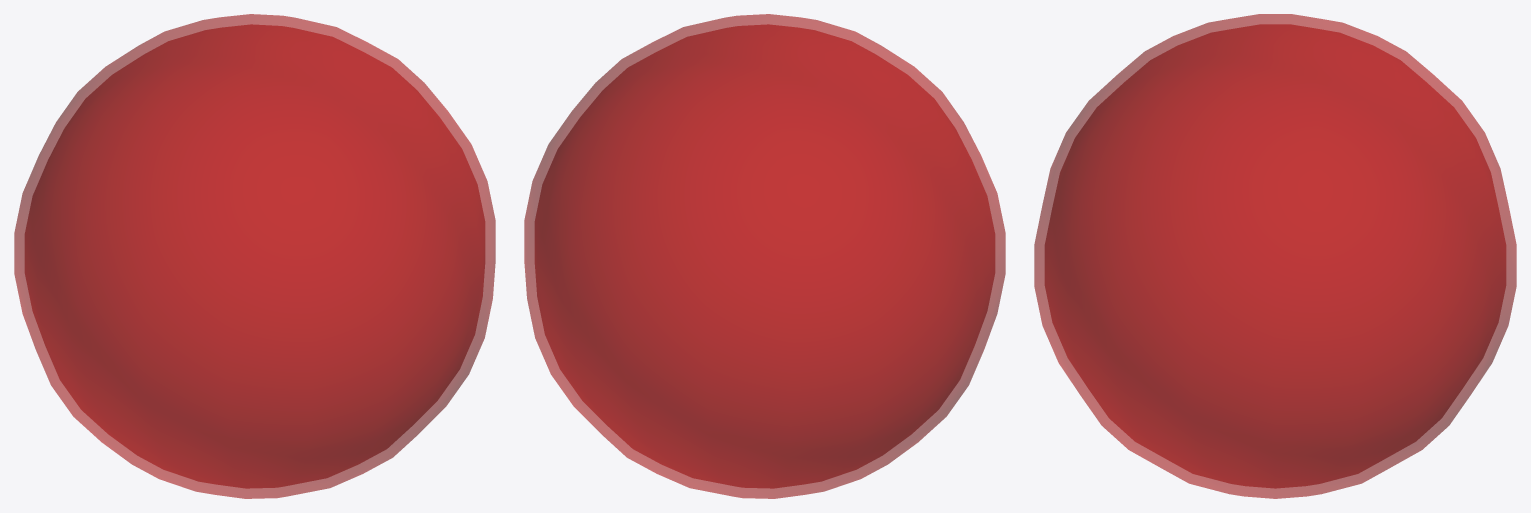
The model's file is Glass_lamp_2.dae.
3 views of the same model, side by side, from view 1: azimuth 30°, elevation 25°; view 2: azimuth 150°, elevation 25°; view 3: azimuth 270°, elevation 25° (orthographic).
Parts seen in each view (by area): view 1: Glass_Lamp2; view 2: Glass_Lamp2; view 3: Glass_Lamp2.
Part boxes in pixels (left/top/right/bottom): Glass_Lamp2: left=14, top=14, right=495, bottom=498; Glass_Lamp2: left=524, top=14, right=1005, bottom=498; Glass_Lamp2: left=1034, top=14, right=1516, bottom=498.
Bounding box in the file's own units: 11.55 × 11.7 × 11.6.
